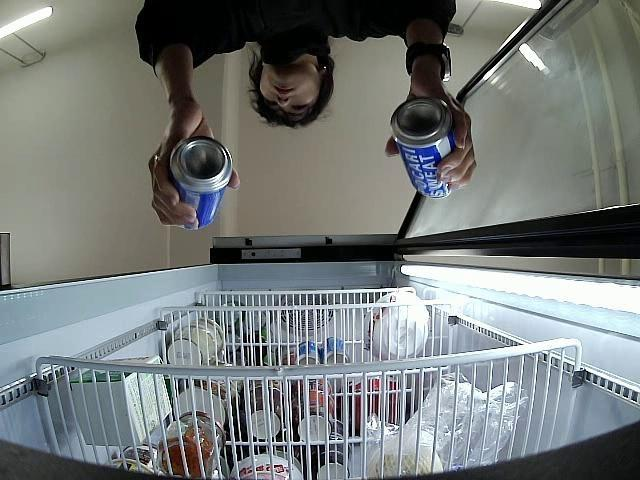13_pocariSweat: (391, 97, 460, 198), (167, 135, 233, 231)
